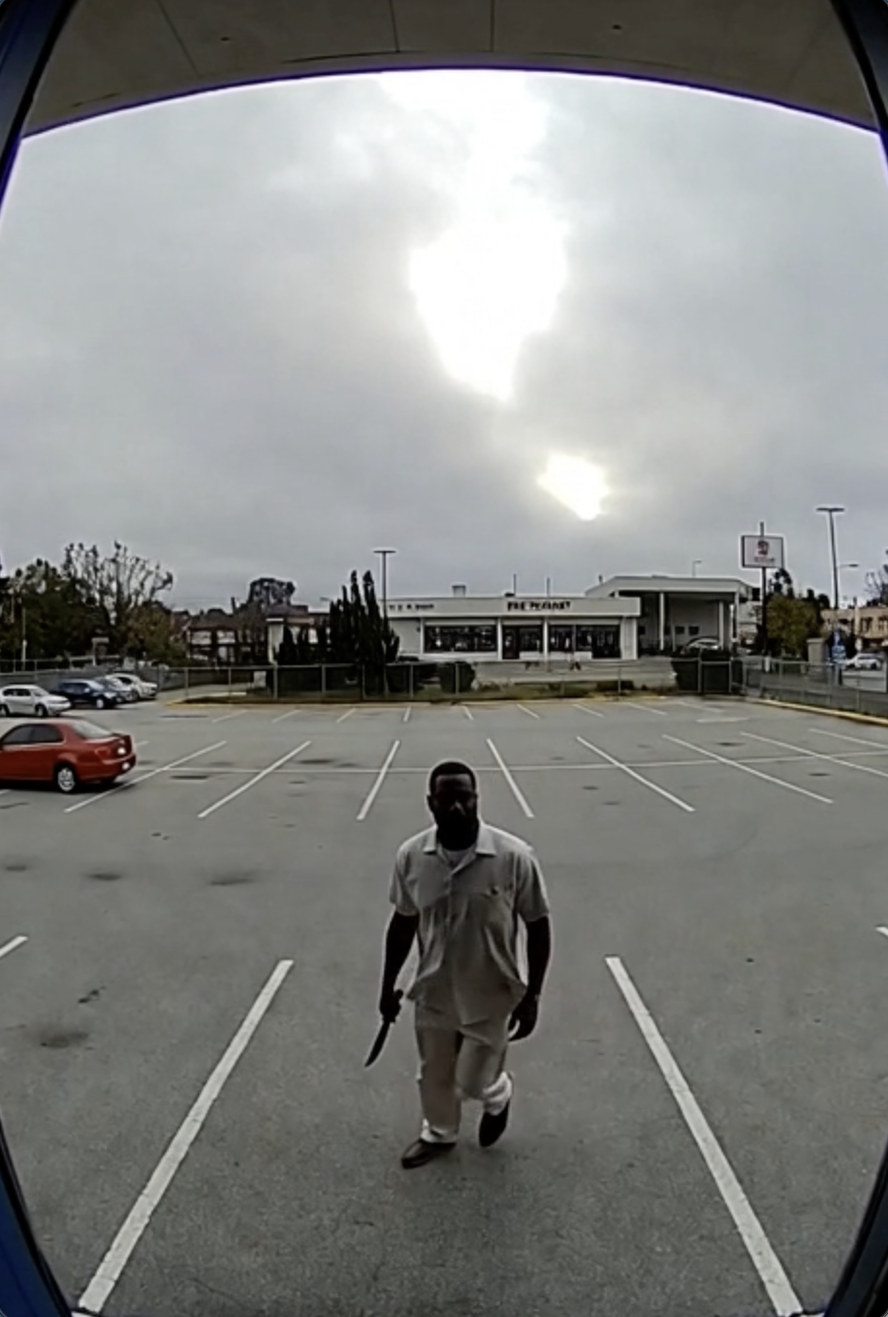Heavy Gun: (368, 753, 554, 1174)
Knife: (361, 991, 410, 1072)
